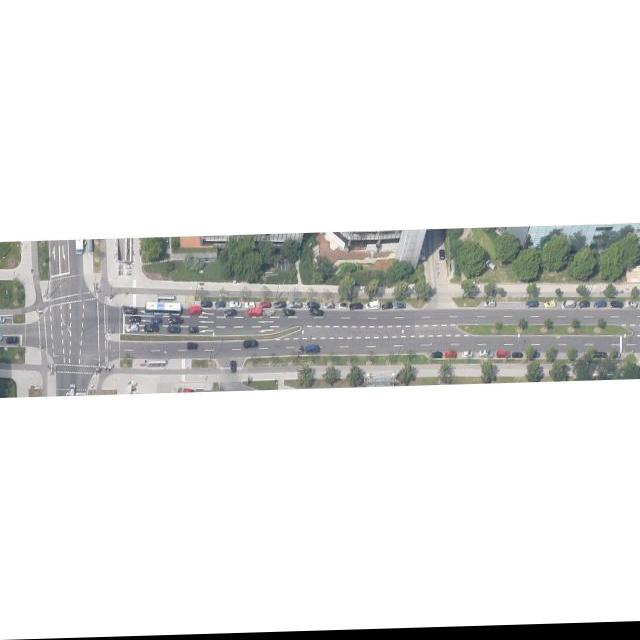vehicle: (306, 346, 320, 356), (122, 306, 136, 316), (126, 324, 140, 334), (169, 316, 183, 326), (247, 309, 261, 319), (244, 341, 258, 350), (145, 325, 159, 334), (309, 310, 323, 319), (610, 303, 624, 312), (562, 303, 576, 312), (366, 303, 380, 312), (306, 302, 320, 311), (479, 353, 493, 361), (496, 353, 510, 361), (486, 263, 496, 274), (188, 307, 200, 316), (168, 327, 180, 335), (282, 310, 294, 318), (594, 304, 606, 312), (544, 303, 556, 311), (230, 362, 237, 375), (7, 336, 19, 343), (224, 310, 236, 317), (526, 304, 538, 311), (350, 305, 362, 312), (274, 303, 286, 310), (186, 344, 198, 351), (462, 353, 472, 361), (626, 304, 636, 312), (394, 304, 404, 312), (324, 303, 334, 311), (69, 384, 75, 396), (290, 304, 302, 310), (130, 316, 140, 323), (188, 328, 198, 335), (264, 311, 274, 318), (432, 354, 442, 361), (446, 354, 456, 361), (579, 305, 589, 312), (484, 303, 494, 310), (230, 302, 240, 309), (216, 302, 226, 309), (296, 347, 304, 355), (151, 318, 161, 324), (513, 355, 523, 361), (382, 305, 392, 311), (260, 304, 270, 310), (245, 303, 255, 309), (201, 302, 211, 308), (339, 305, 347, 311), (440, 253, 444, 263)
